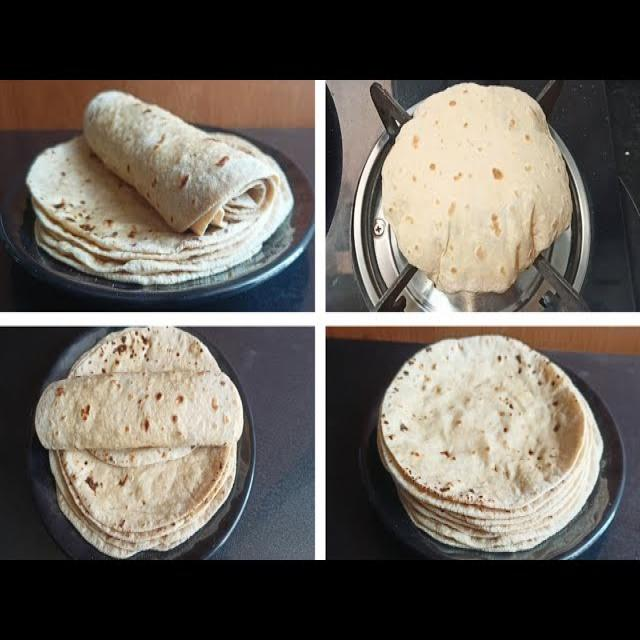ROTI: (379, 336, 602, 551), (381, 83, 570, 295), (26, 136, 293, 285), (83, 92, 278, 235), (55, 445, 236, 556), (36, 371, 242, 449), (71, 327, 219, 375)
